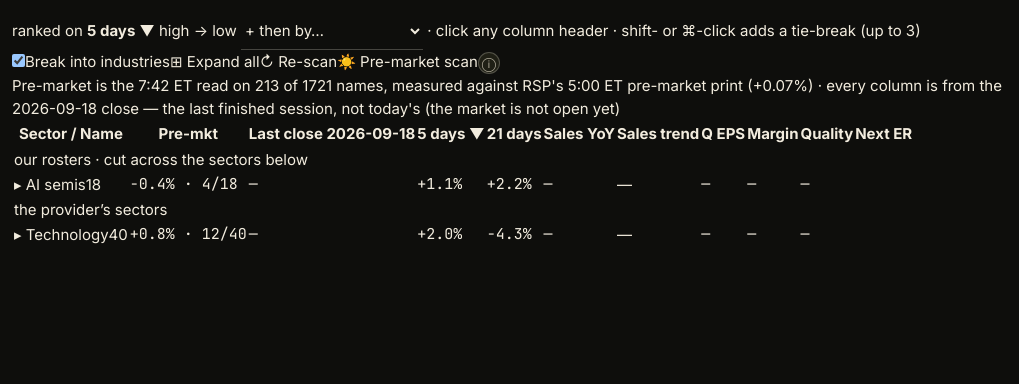
Test: the Pre-mkt column › NEGATIVE: a name with no pre-market print is an em-dash, never a zero
expect the button "▸ Technology" is shown: met, box 14,223 -> 109,247
What coordinates should you click on to do the following:
click the checkbox labelled "Break into industries"
I would click on:
 (18, 60)
Its box is 12,54 -> 25,67.
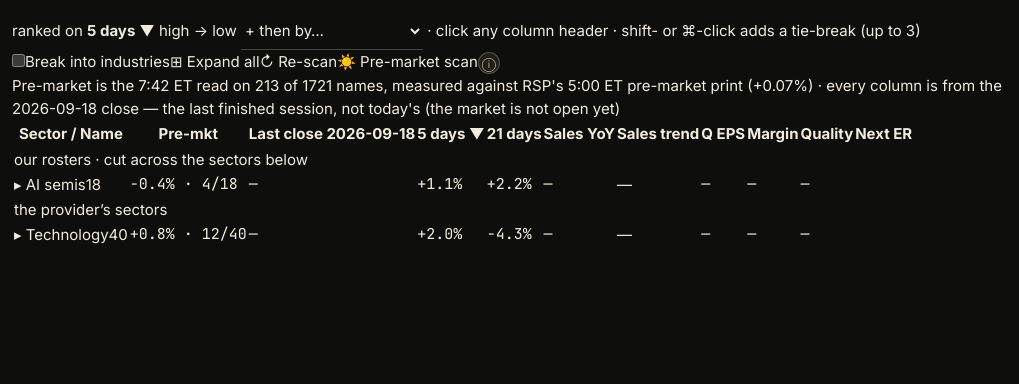
What coordinates should you click on to do the following:
click the button "▸ Technology"
I would click on:
 (61, 235)
Its box is 14,223 -> 109,247.
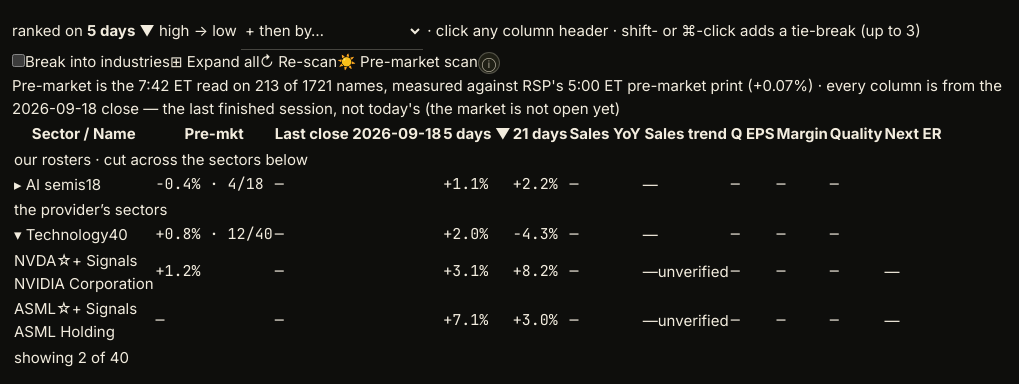
expect the text "—" is shown: met, box 156,297 -> 273,344
